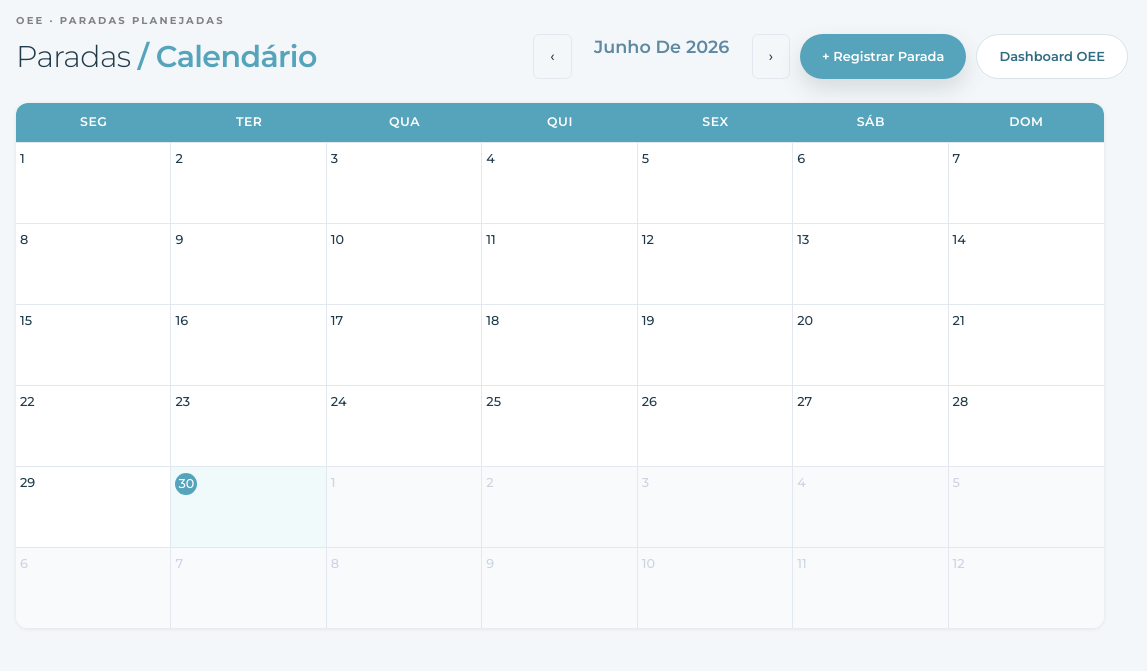
Test case: PlannedDowntimeCalendarComponent › AC-5 — create form (SUPERVISOR+) › should open form panel on "Registrar Parada" click
This screenshot has width=1147, height=671.
Click the button with test id "btn-add-downtime".
click(883, 56)  # box [800,34,966,79]
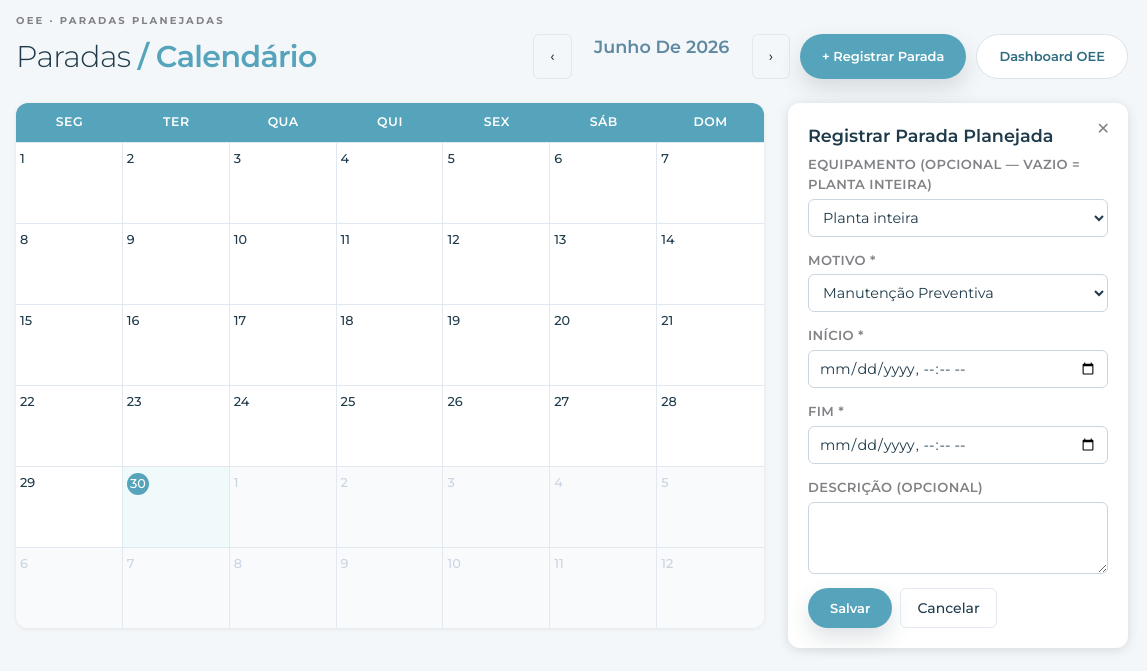
Expected: the element with test id "form-panel" is shown, [788,103,1128,648]
